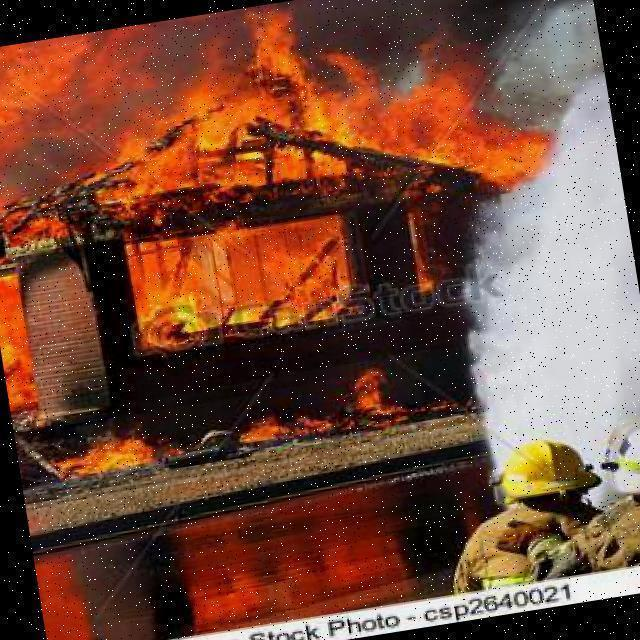Fire: (119, 228, 355, 354), (235, 362, 412, 458), (44, 398, 168, 494)
Smoke: (13, 4, 550, 230)
